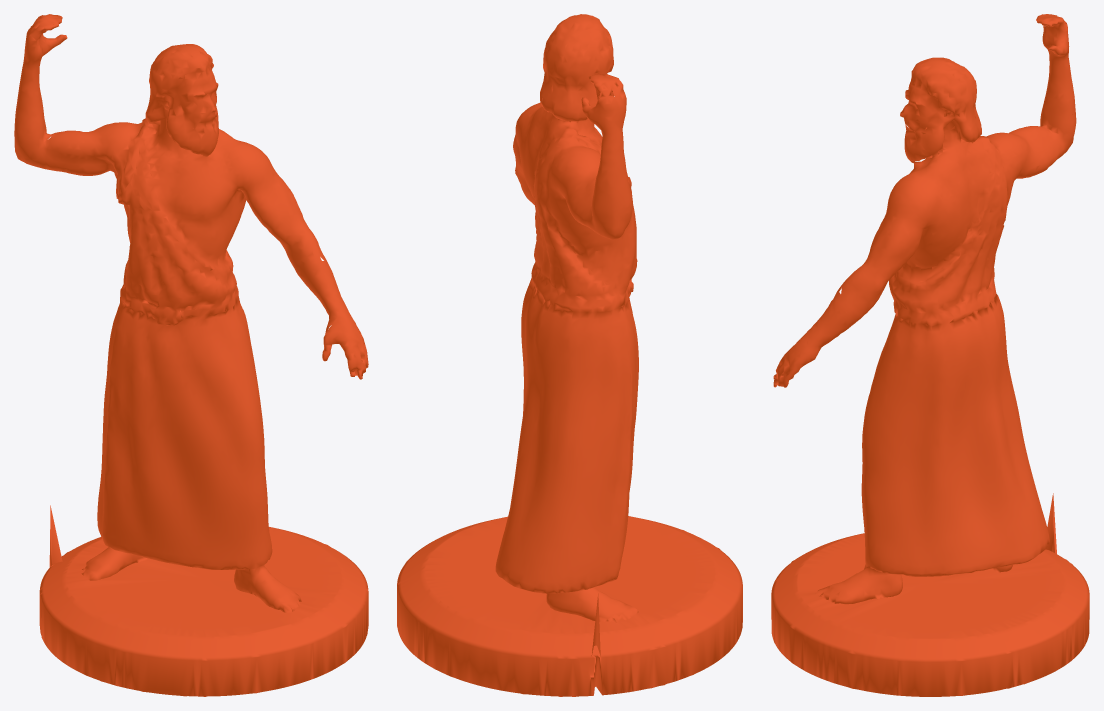
The model's file is tamura.glb.
The picture shows the model from 3 angles, left to right: view 1: azimuth 30°, elevation 25°; view 2: azimuth 150°, elevation 25°; view 3: azimuth 270°, elevation 25°; orthographic projection. The views are drawn at different scales.
Bounding box in the file's own units: 0.505 × 0.9967 × 0.505.
